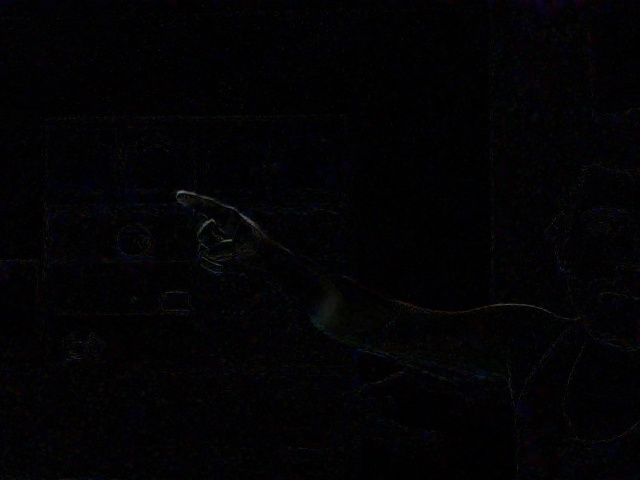hand_po: (167, 178, 293, 301)
